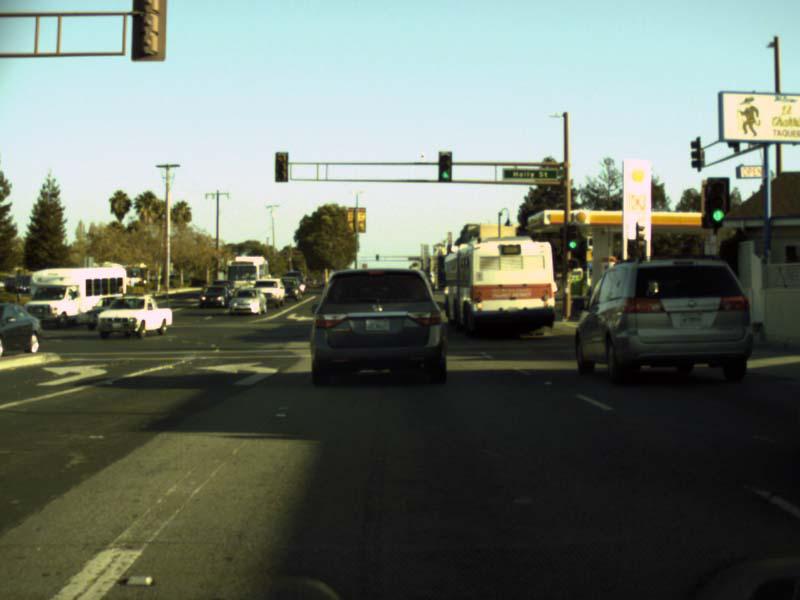Green: (703, 178, 728, 227), (438, 151, 451, 181), (565, 222, 579, 249)
Red: (275, 151, 288, 181)
